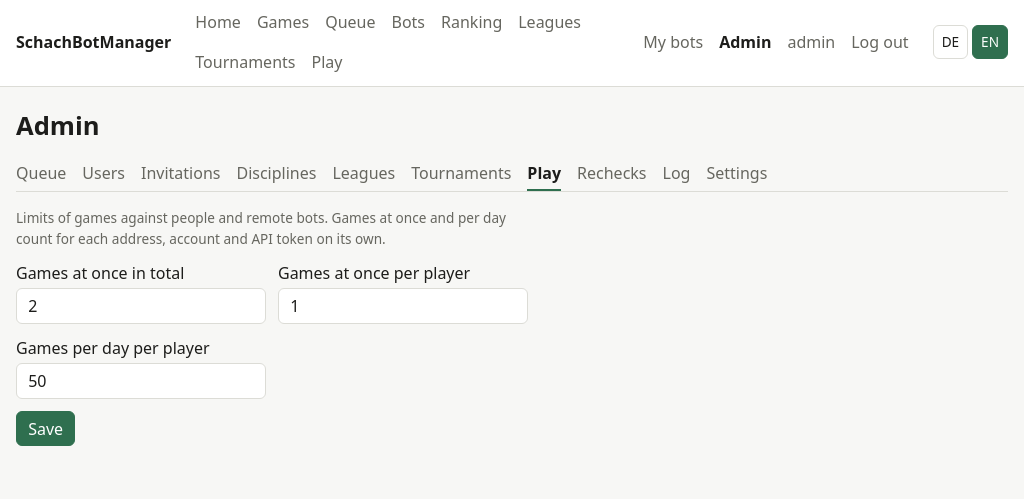
it: players and the admin limits › lets admins change the limits of games
This screenshot has width=1024, height=499.
Replace the text in the number field labelled "Games at once in total" with "3": [141, 306] box [16,288,266,324]
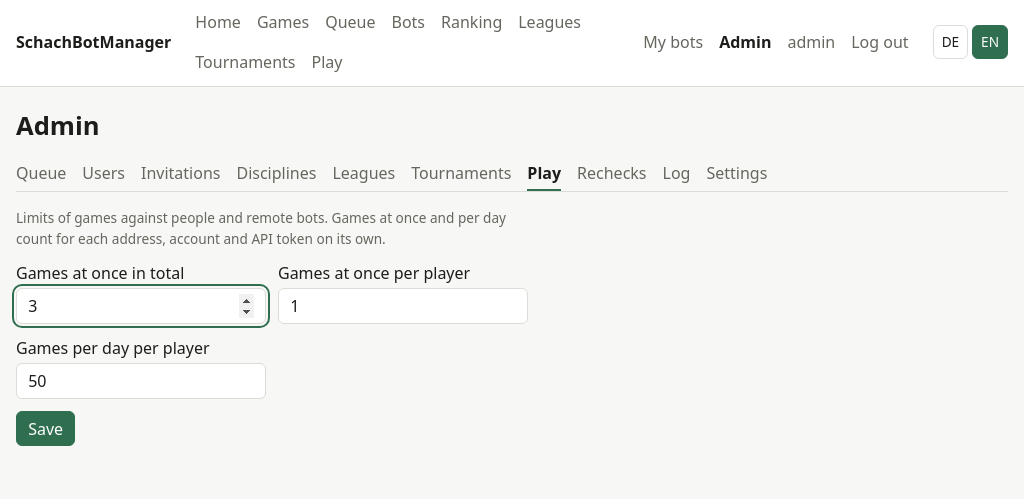
Click the button "Save": [46, 428] box [16,411,75,446]
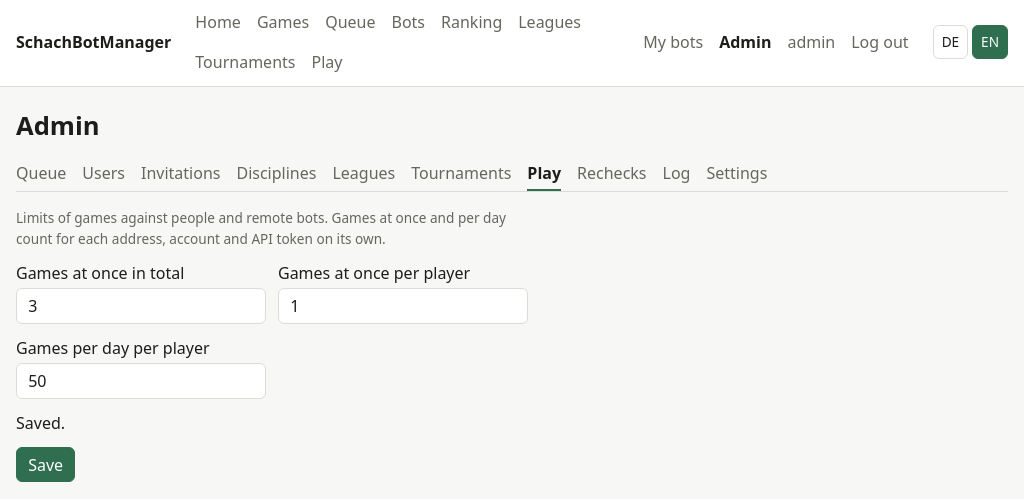
Now the text "Saved." is shown, box [16,412,65,434]
